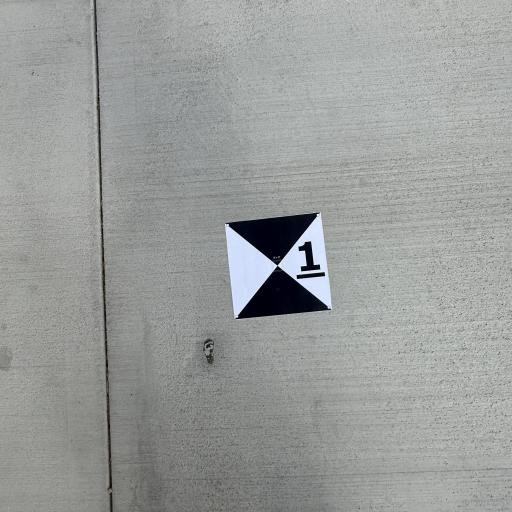target1: (220, 208, 336, 319)
